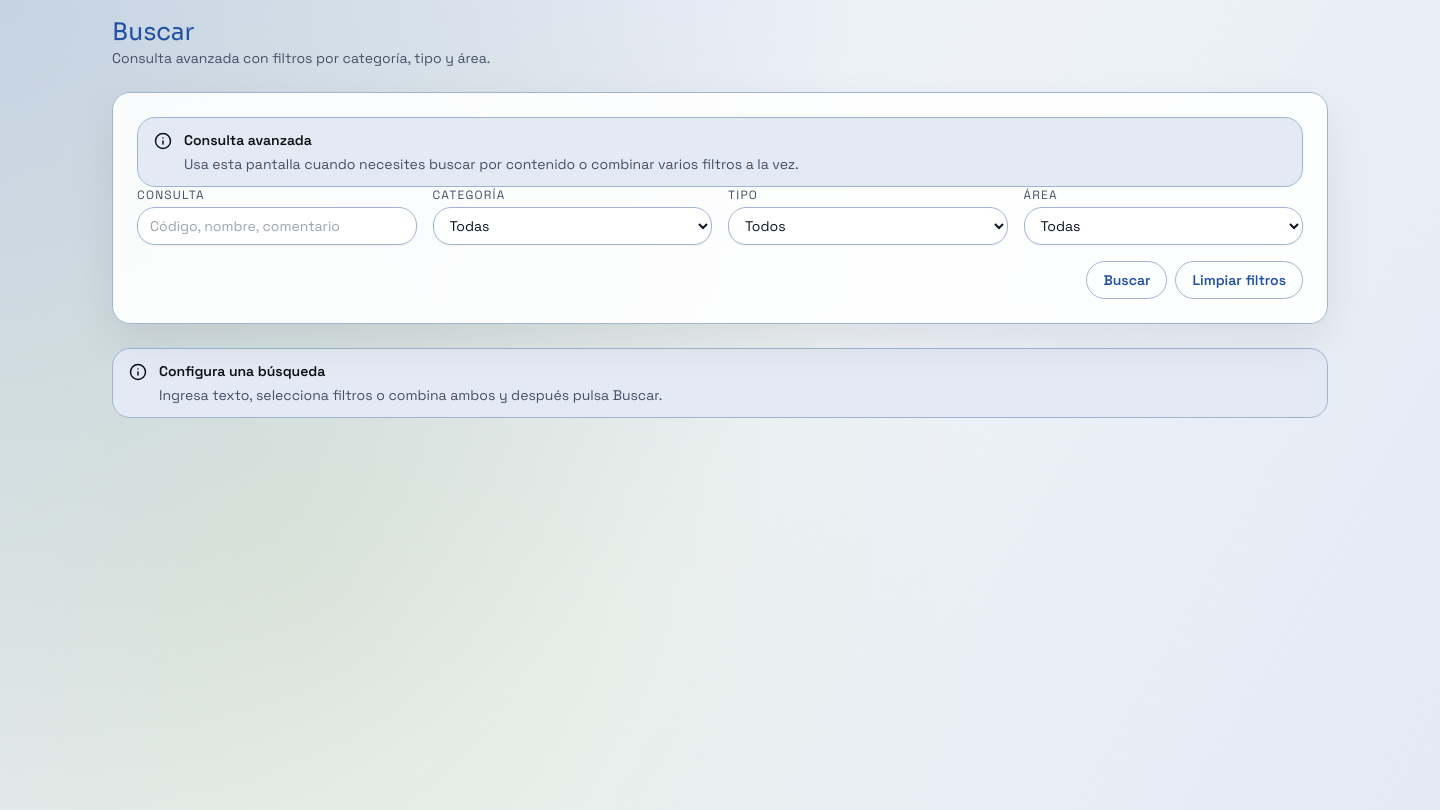
Test: SearchPage › muestra resultados con el motor de búsqueda activo
Type "manual" into the field labelled "Consulta".
click(277, 226); type("manual")  # box [137,207,416,245]
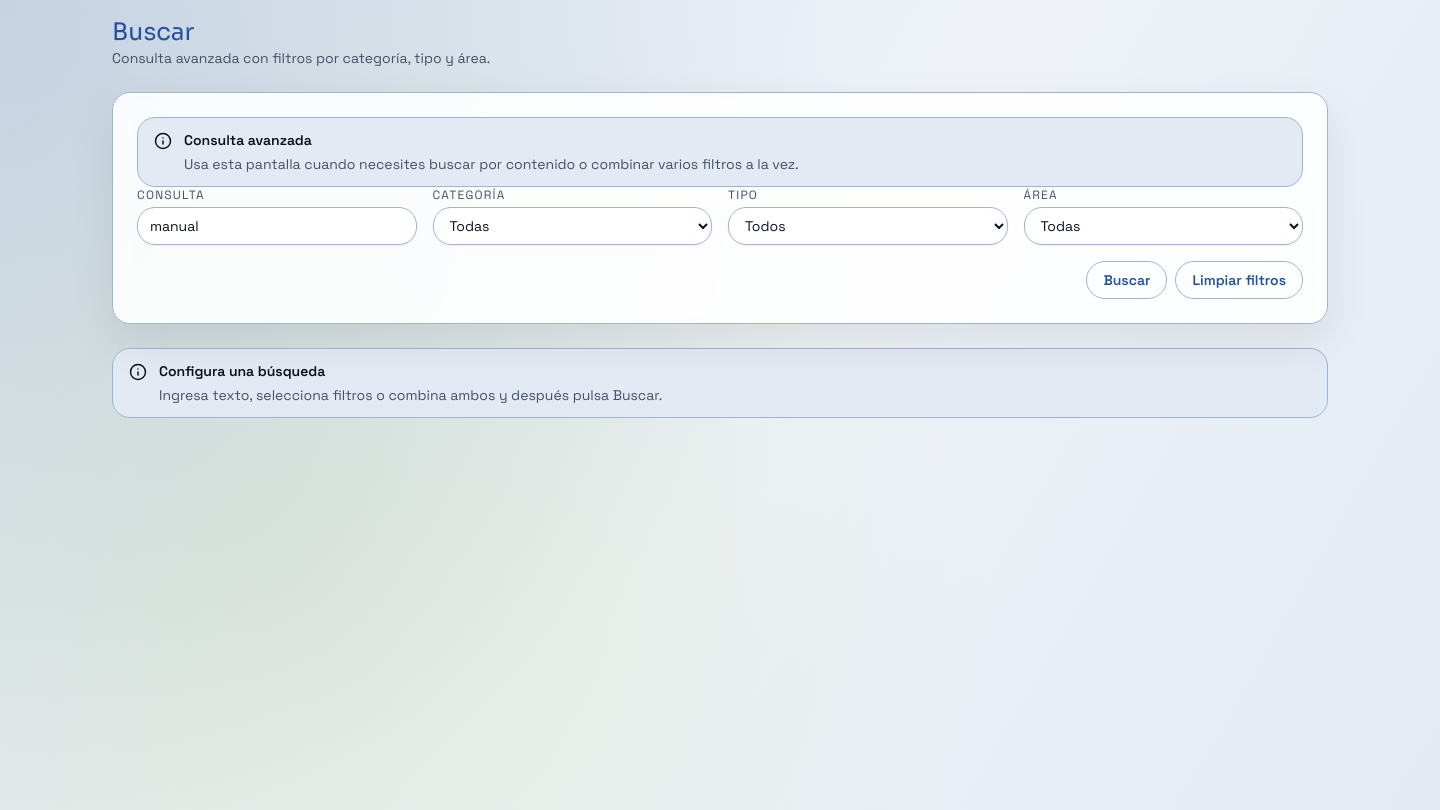
Click the button "Buscar".
click(1127, 280)  # box [1086,261,1167,299]
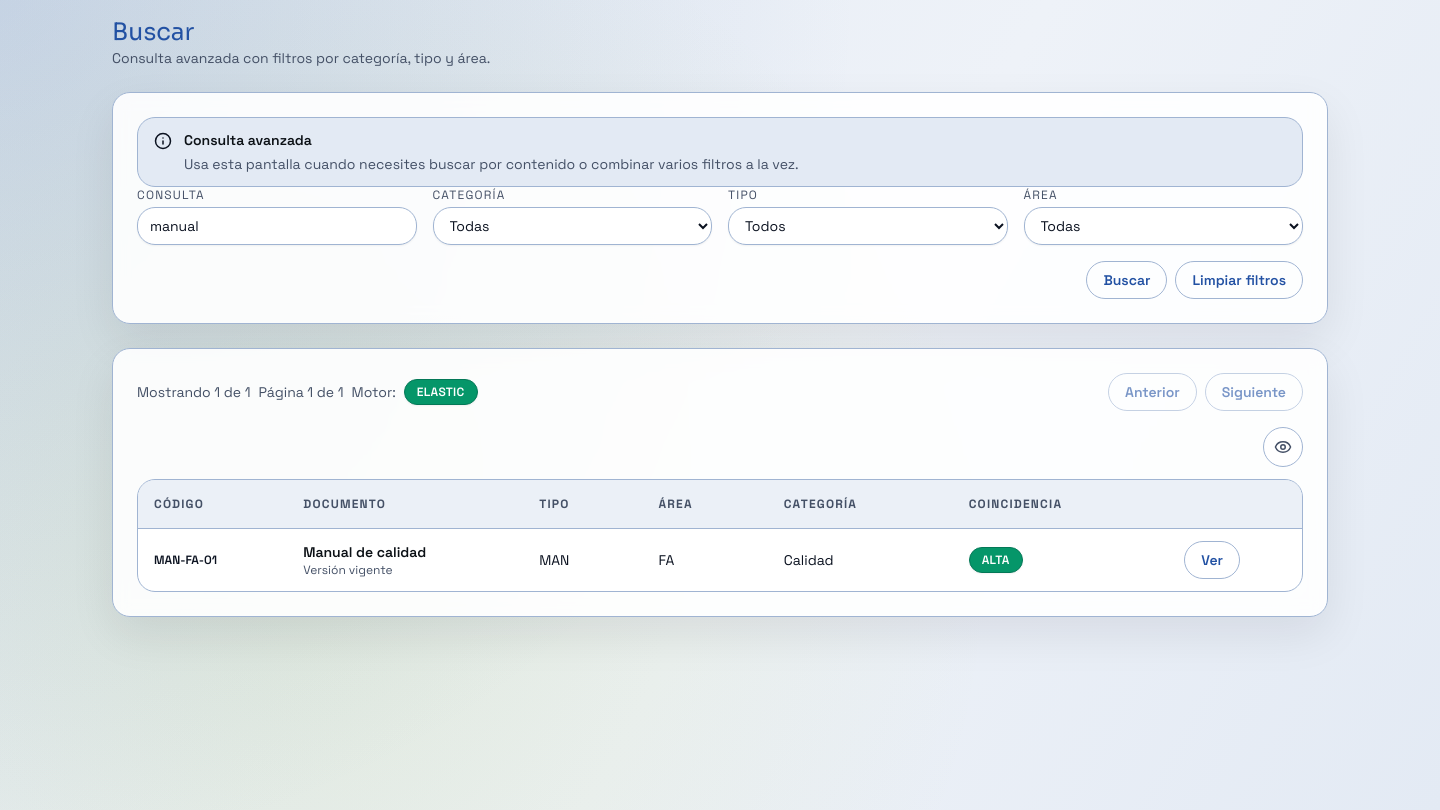
Expected: the text "Elastic" is shown, [404,379,478,405]
Expected: the text "Manual de calidad" is shown, [303,543,426,561]
Expected: the text "Alta" is shown, [969,547,1023,573]
